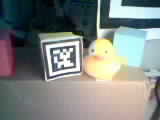duck: (78, 26, 122, 78)
